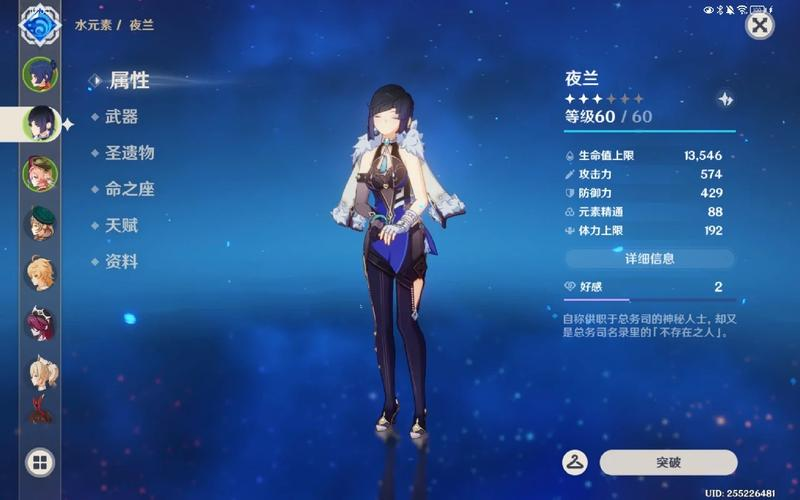夜兰: (340, 79, 442, 457)
